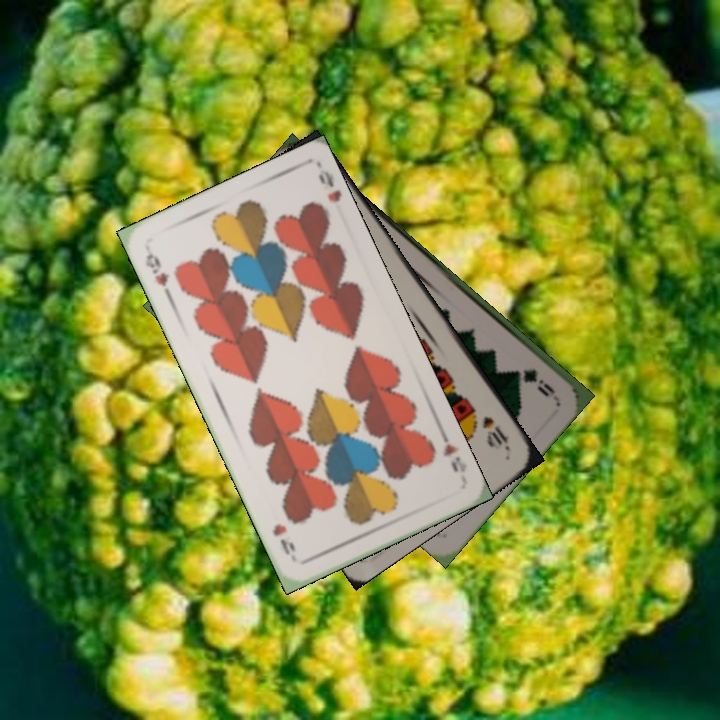G9: (518, 365, 558, 399)
H9: (436, 426, 469, 476), (141, 244, 173, 289)
S10: (478, 412, 513, 453)
